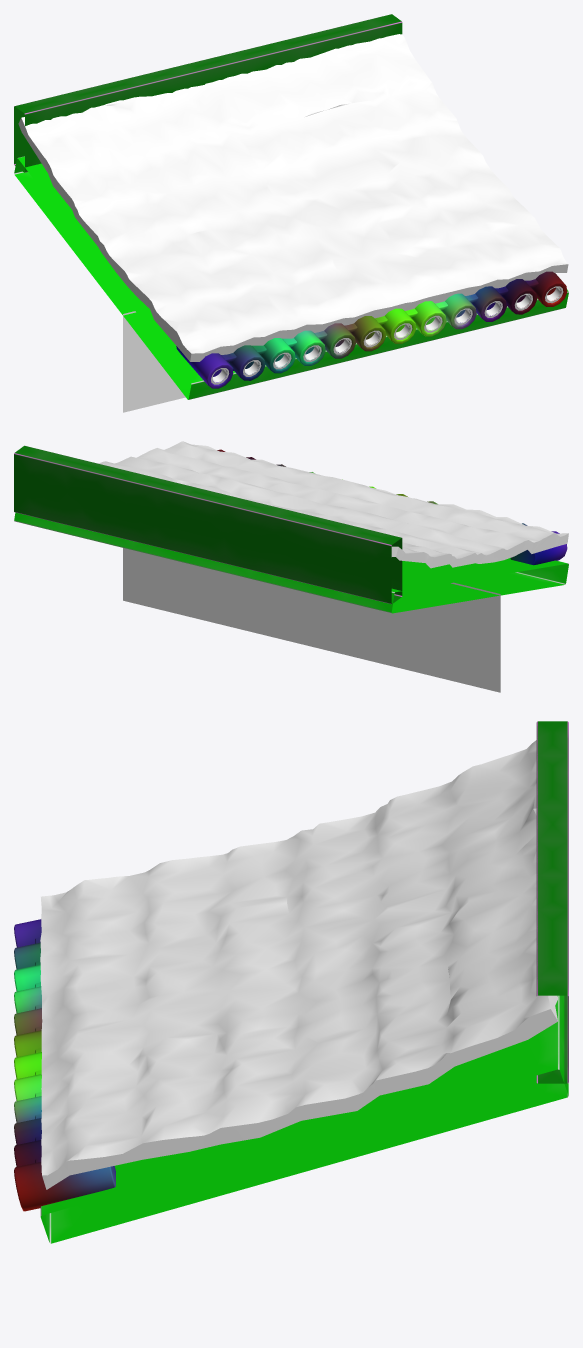
File: wall_roof_fenced_200_01.fbx
3 views of the same model, one above another, from view 1: azimuth 30°, elevation 25°; view 2: azimuth 150°, elevation 25°; view 3: azimuth 270°, elevation 25° (orthographic). The views are drawn at different scales.
Visible parts, largest first — view 1: wall_roof_fenced_200_01; view 2: wall_roof_fenced_200_01; view 3: wall_roof_fenced_200_01.
Part boxes in pixels (box(x1,y1,x2,y2)): wall_roof_fenced_200_01: box(14, 14, 568, 412); wall_roof_fenced_200_01: box(14, 441, 568, 692); wall_roof_fenced_200_01: box(14, 721, 568, 1243).
Size of the model in its own units: 2 by 1.15 by 1.71.
